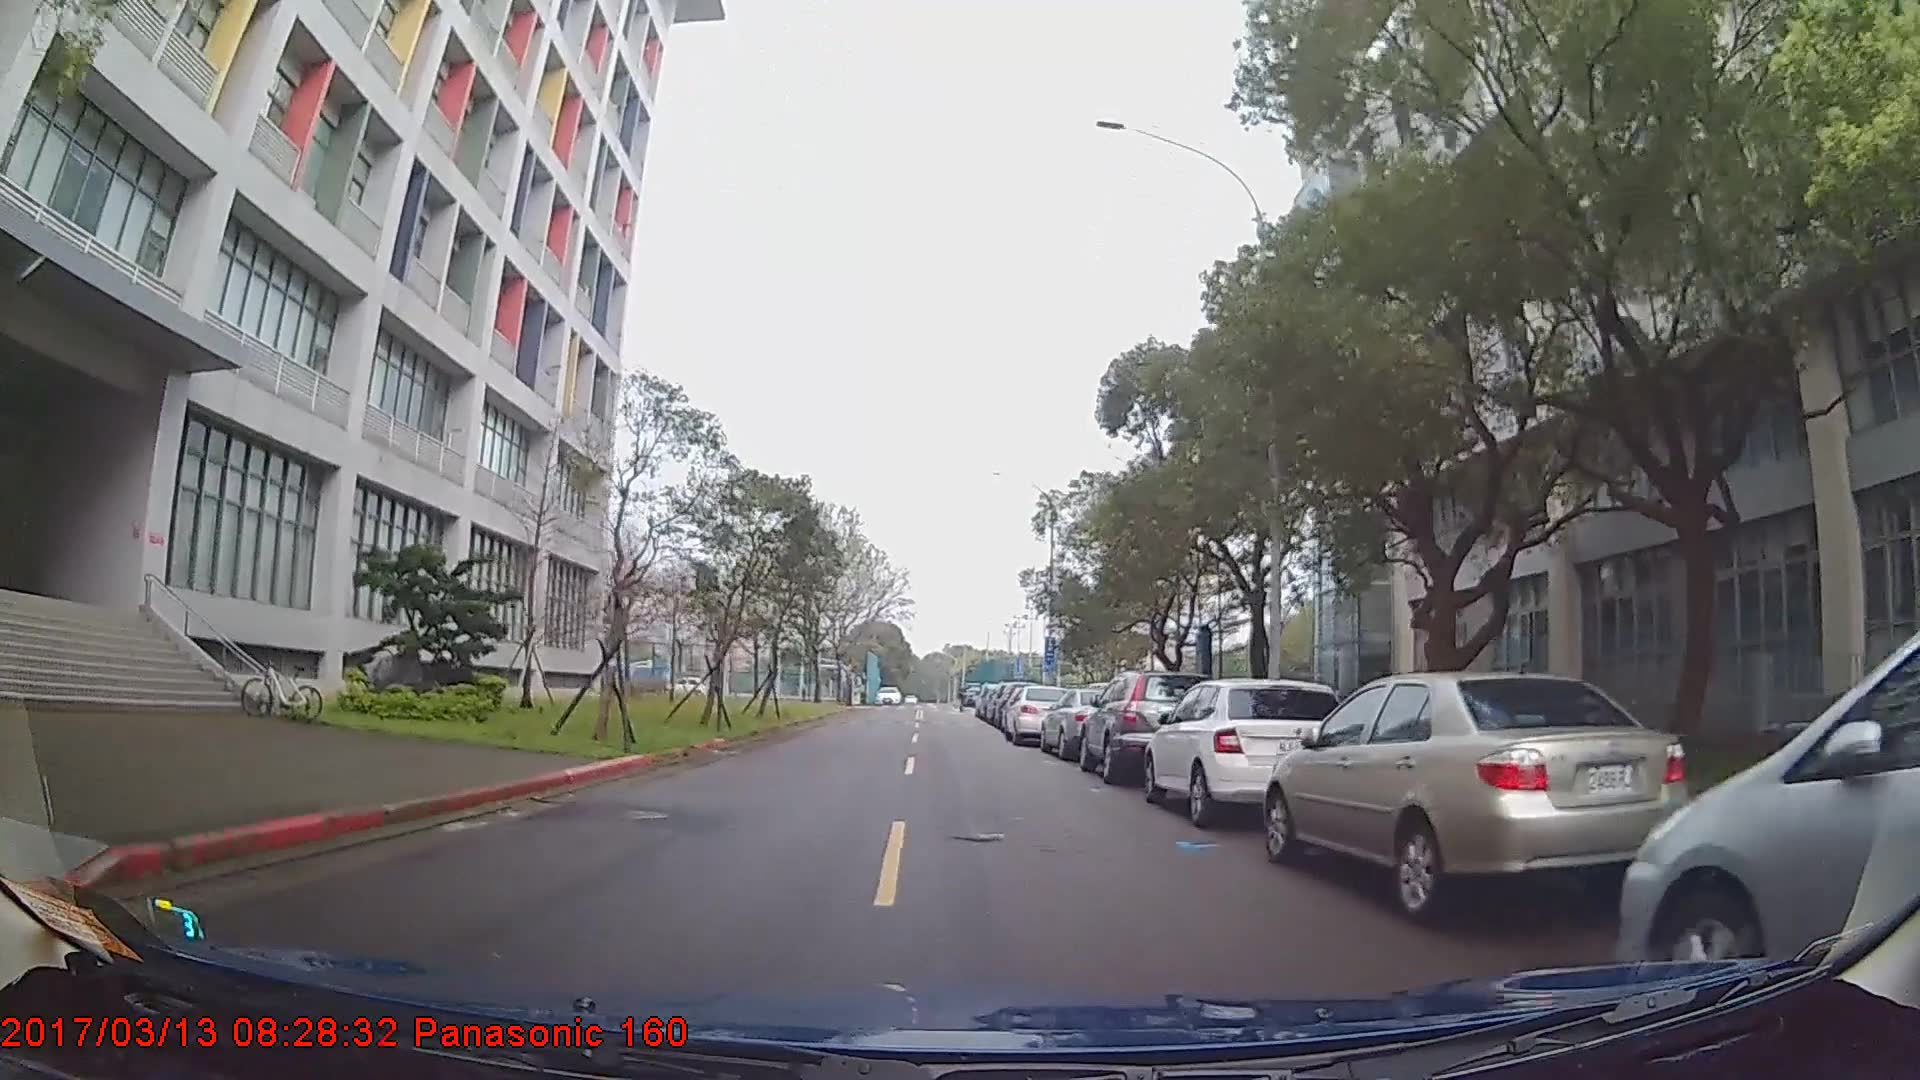vehicle: (1618, 637, 1920, 1010), (1265, 669, 1691, 923), (1145, 679, 1352, 827), (1076, 673, 1218, 786), (1039, 686, 1131, 762), (1001, 684, 1072, 745)
